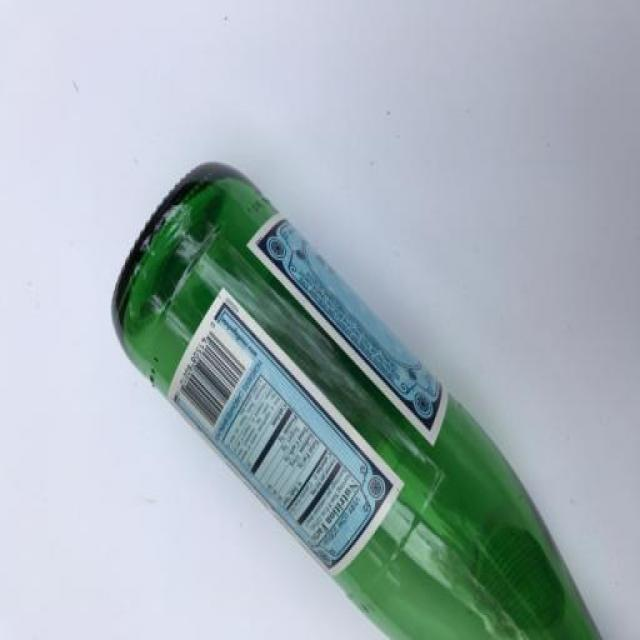glass: (104, 155, 640, 640)
